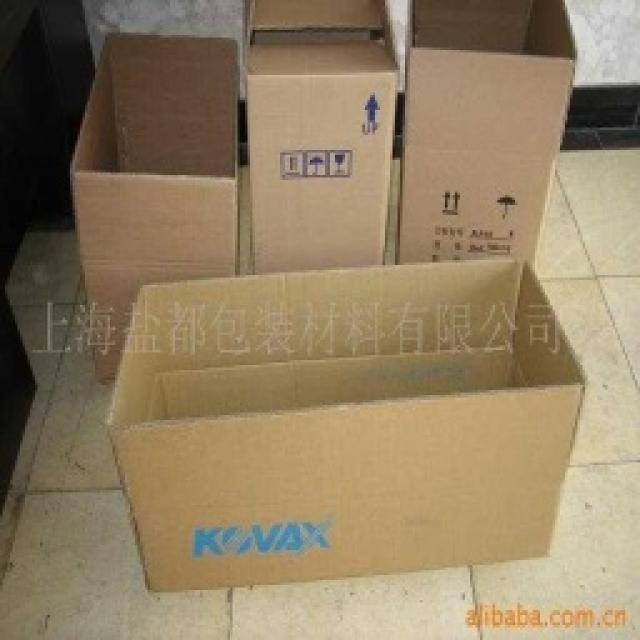box: (100, 253, 588, 597), (69, 18, 244, 384), (410, 5, 582, 276), (238, 5, 399, 277)
